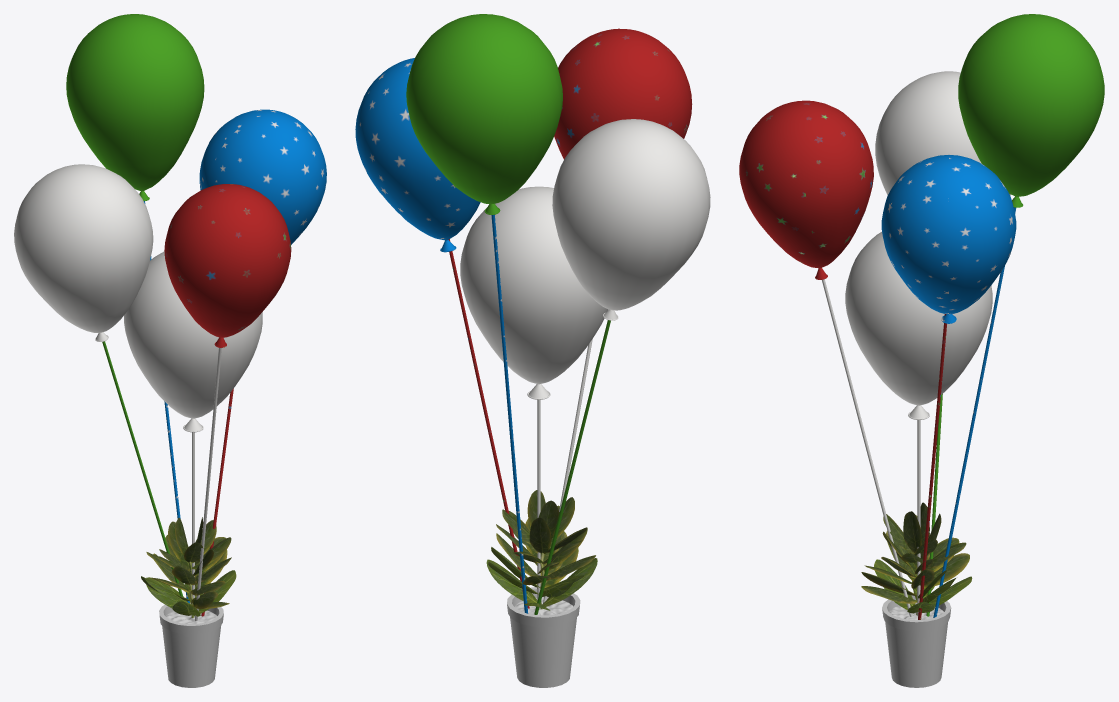
File: Balloons.fbx
3 views of the same model, side by side, from view 1: azimuth 30°, elevation 25°; view 2: azimuth 150°, elevation 25°; view 3: azimuth 270°, elevation 25° (orthographic). The views are drawn at different scales.
Visible parts, largest first — view 1: KB3D_ECE_BldgIntPatientRoom_A_Balloons; view 2: KB3D_ECE_BldgIntPatientRoom_A_Balloons; view 3: KB3D_ECE_BldgIntPatientRoom_A_Balloons.
Part boxes in pixels (x1,y1,x2,y2): KB3D_ECE_BldgIntPatientRoom_A_Balloons: [14, 14, 326, 687]; KB3D_ECE_BldgIntPatientRoom_A_Balloons: [355, 14, 710, 687]; KB3D_ECE_BldgIntPatientRoom_A_Balloons: [739, 14, 1104, 687].
Bounding box in the file's own units: 101 × 202 × 102.
